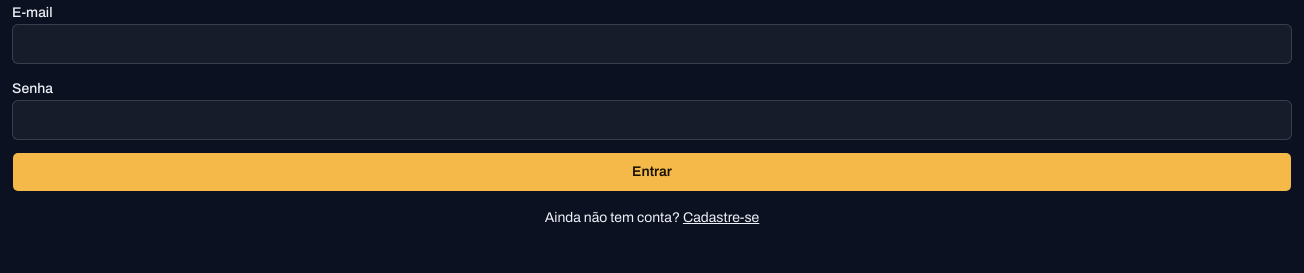
Test: LoginForm › mostra erro traduzido
Type "ana@exemplo.com" into the field labelled "E-mail" at (652, 44), box 12,24 -> 1292,64
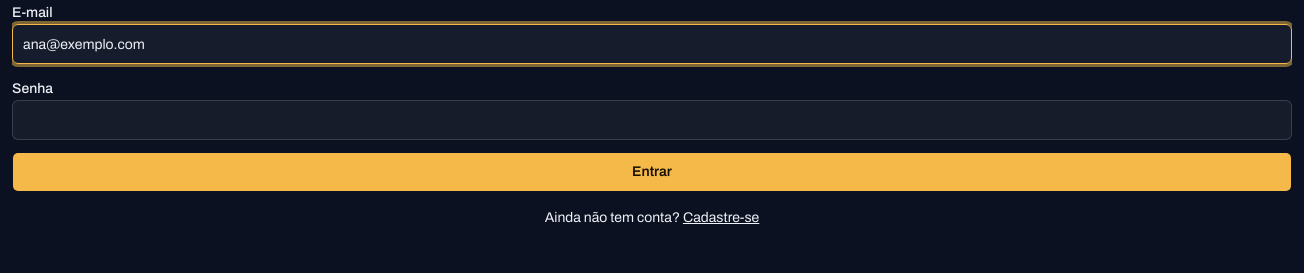
Type "segredo123" into the password field labelled "Senha" at (652, 120), box 12,100 -> 1292,140
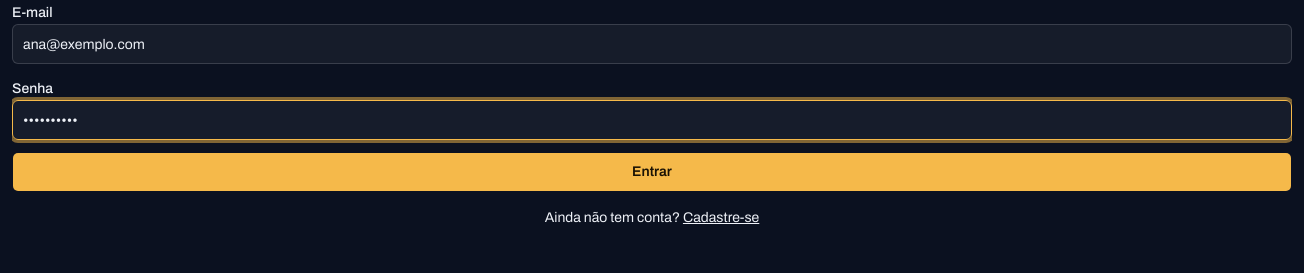
Click the button "Entrar" at (652, 172), box 12,152 -> 1292,192
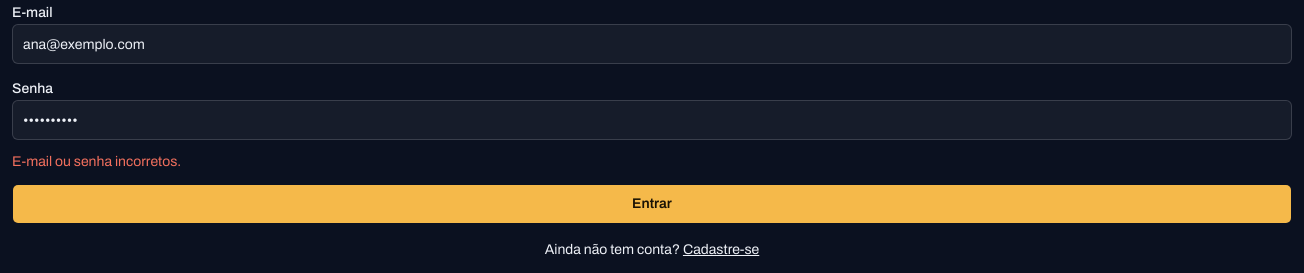
Now the message reads "E-mail ou senha incorretos.", box 12,154 -> 181,169
